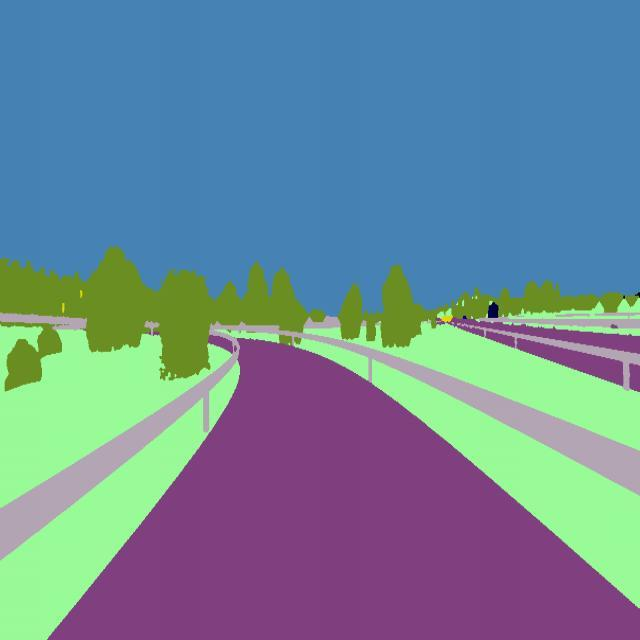safe: (486, 298, 503, 332)
